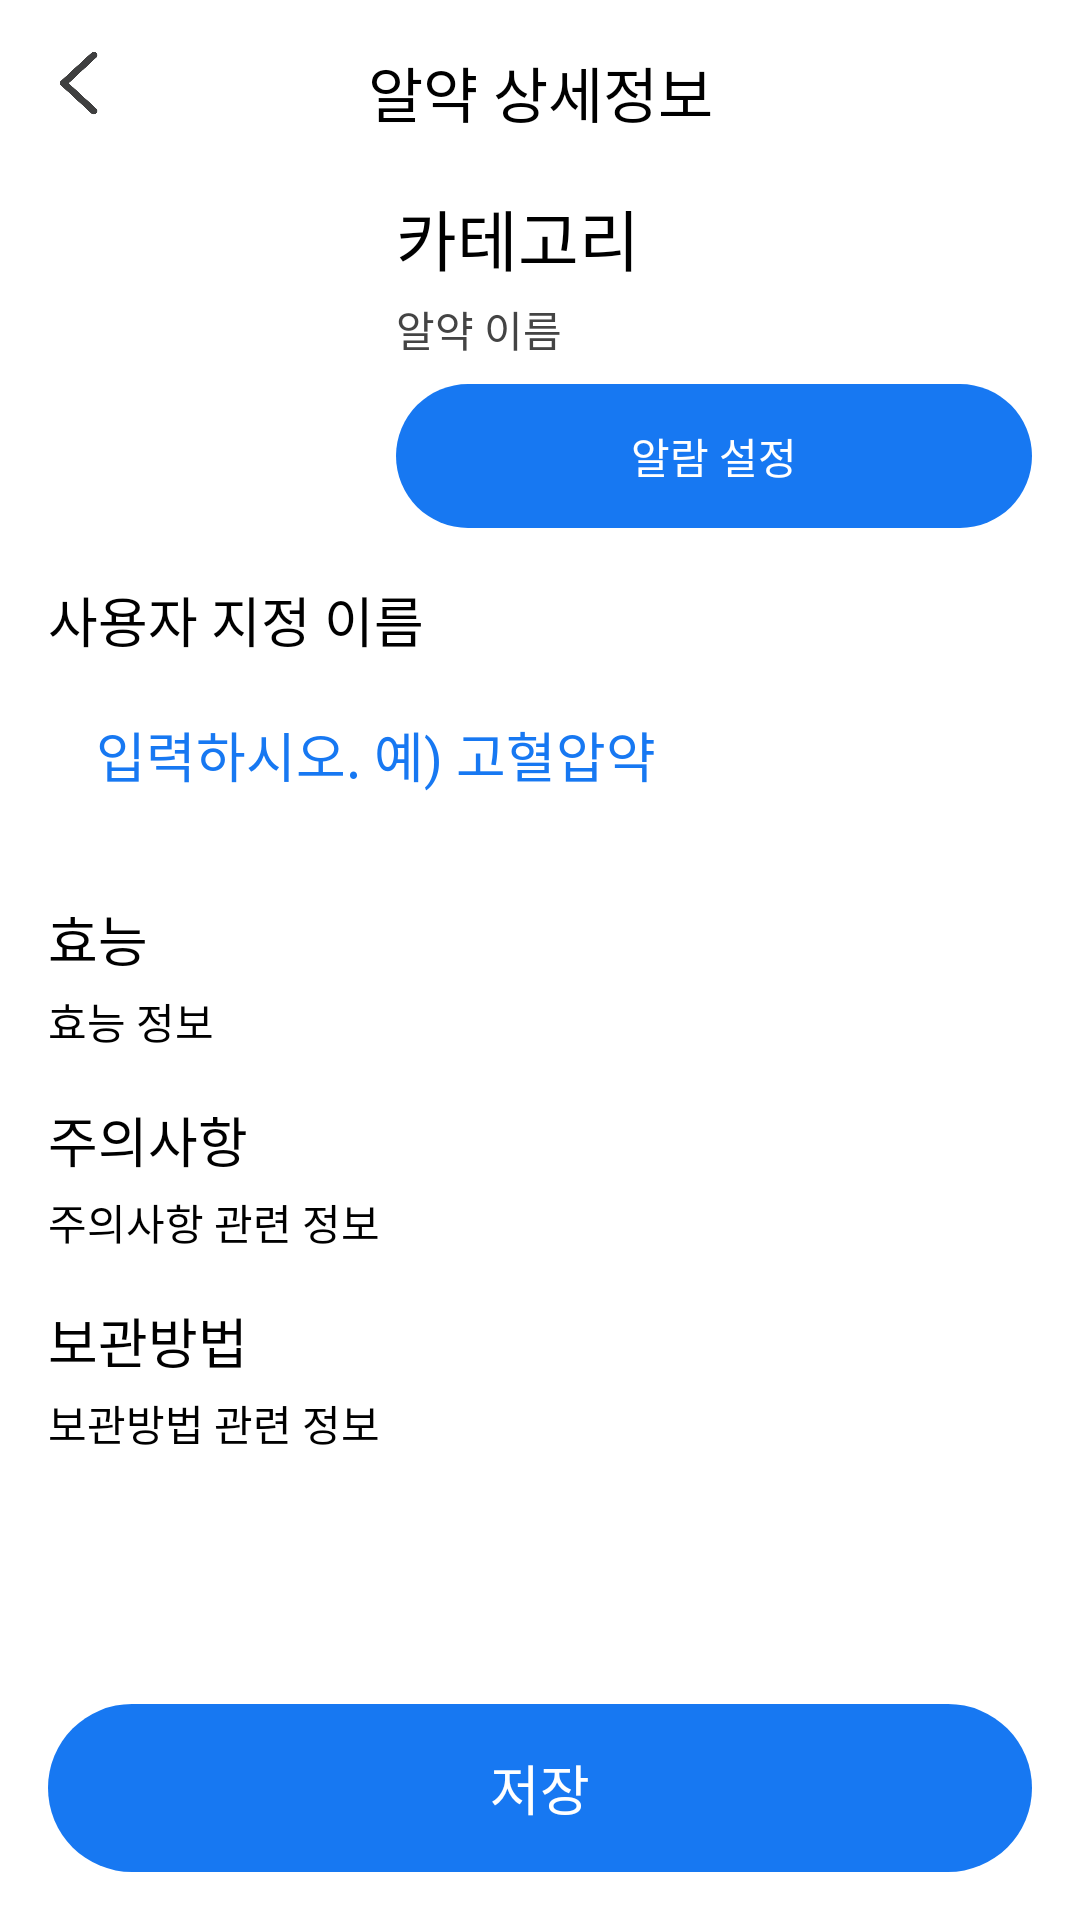

Where to tap for icons on this 1080w x 1920h app screen, as [x,y]:
return: [79,83]
